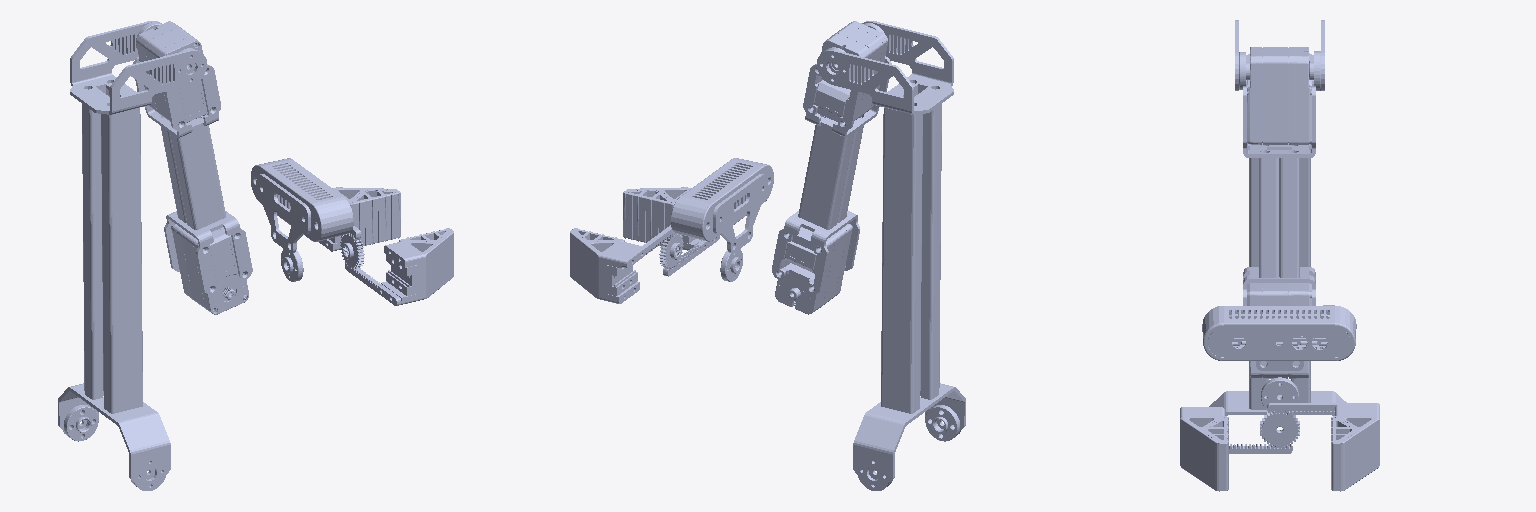
URDF robot description (NexArm0326new):
<?xml version="1.0" encoding="utf-8"?>
<!-- This URDF was automatically created by SolidWorks to URDF Exporter! Originally created by Stephen Brawner (brawner@gmail.com) 
     Commit Version: 1.6.0-4-g7f85cfe  Build Version: 1.6.7995.38578
     For more information, please see http://wiki.ros.org/sw_urdf_exporter -->
<robot
  name="NexArm0326new">
  <link
    name="base_link">
    <inertial>
      <origin
        xyz="0.0038665 2.0154E-06 0.026241"
        rpy="0 0 0" />
      <mass
        value="0.11262" />
      <inertia
        ixx="0.00011436"
        ixy="-2.127E-09"
        ixz="2.2436E-06"
        iyy="9.1966E-05"
        iyz="3.0965E-09"
        izz="0.00017896" />
    </inertial>
    <visual>
      <origin
        xyz="0 0 0"
        rpy="0 0 0" />
      <geometry>
        <mesh
          filename="package://NexArm0326new/meshes/base_link.STL" />
      </geometry>
      <material
        name="">
        <color
          rgba="0.79216 0.81961 0.93333 1" />
      </material>
    </visual>
    <collision>
      <origin
        xyz="0 0 0"
        rpy="0 0 0" />
      <geometry>
        <mesh
          filename="package://NexArm0326new/meshes/base_link.STL" />
      </geometry>
    </collision>
  </link>
  <link
    name="link1">
    <inertial>
      <origin
        xyz="5.6716152818298E-05 -1.86344172289354E-05 0.00418728087306319"
        rpy="0 0 0" />
      <mass
        value="0.0920484315594834" />
      <inertia
        ixx="4.05599543416967E-05"
        ixy="1.65185188703231E-09"
        ixz="2.44704004347051E-08"
        iyy="3.90268860828527E-05"
        iyz="1.63055586039366E-08"
        izz="6.80315119700401E-05" />
    </inertial>
    <visual>
      <origin
        xyz="0 0 0"
        rpy="0 0 0" />
      <geometry>
        <mesh
          filename="package://NexArm0326new/meshes/link1.STL" />
      </geometry>
      <material
        name="">
        <color
          rgba="0.792156862745098 0.819607843137255 0.933333333333333 1" />
      </material>
    </visual>
    <collision>
      <origin
        xyz="0 0 0"
        rpy="0 0 0" />
      <geometry>
        <mesh
          filename="package://NexArm0326new/meshes/link1.STL" />
      </geometry>
    </collision>
  </link>
  <joint
    name="joint1"
    type="revolute">
    <origin
      xyz="0.00042383 0 0.071003"
      rpy="0 0 0" />
    <parent
      link="base_link" />
    <child
      link="link1" />
    <axis
      xyz="0 0 -1" />
    <limit
      lower="-2.09"
      upper="2.09"
      effort="1000"
      velocity="0" />
  </joint>
  <link
    name="link2">
    <inertial>
      <origin
        xyz="0.0010467043709268 -0.0373060906216532 0.117940336564004"
        rpy="0 0 0" />
      <mass
        value="0.0590642381074413" />
      <inertia
        ixx="0.000126365190348819"
        ixy="-2.04852919617321E-11"
        ixz="6.46183559143708E-07"
        iyy="0.000122570999972299"
        iyz="-2.23011604572762E-12"
        izz="1.13949066313735E-05" />
    </inertial>
    <visual>
      <origin
        xyz="0 0 0"
        rpy="0 0 0" />
      <geometry>
        <mesh
          filename="package://NexArm0326new/meshes/link2.STL" />
      </geometry>
      <material
        name="">
        <color
          rgba="0.792156862745098 0.819607843137255 0.933333333333333 1" />
      </material>
    </visual>
    <collision>
      <origin
        xyz="0 0 0"
        rpy="0 0 0" />
      <geometry>
        <mesh
          filename="package://NexArm0326new/meshes/link2.STL" />
      </geometry>
    </collision>
  </link>
  <joint
    name="joint2"
    type="revolute">
    <origin
      xyz="-0.00041844 0.03728 0.039446"
      rpy="0 0 0" />
    <parent
      link="link1" />
    <child
      link="link2" />
    <axis
      xyz="0 1 0" />
    <limit
      lower="-2.09"
      upper="2.09"
      effort="1000"
      velocity="0" />
  </joint>
  <link
    name="link3">
    <inertial>
      <origin
        xyz="0.0137516433678302 -0.0196288133010798 -0.0711816402502082"
        rpy="0 0 0" />
      <mass
        value="0.062815962862313" />
      <inertia
        ixx="1.41867477534541E-05"
        ixy="5.59159372224557E-09"
        ixz="1.6737868665363E-06"
        iyy="1.59862374357988E-05"
        iyz="1.07176241107346E-09"
        izz="5.78320845698204E-06" />
    </inertial>
    <visual>
      <origin
        xyz="0 0 0"
        rpy="0 0 0" />
      <geometry>
        <mesh
          filename="package://NexArm0326new/meshes/link3.STL" />
      </geometry>
      <material
        name="">
        <color
          rgba="0.792156862745098 0.819607843137255 0.933333333333333 1" />
      </material>
    </visual>
    <collision>
      <origin
        xyz="0 0 0"
        rpy="0 0 0" />
      <geometry>
        <mesh
          filename="package://NexArm0326new/meshes/link3.STL" />
      </geometry>
    </collision>
  </link>
  <joint
    name="joint3"
    type="revolute">
    <origin
      xyz="0.0348 -0.01893 0.22535"
      rpy="0 0 0" />
    <parent
      link="link2" />
    <child
      link="link3" />
    <axis
      xyz="0 1 0" />
    <limit
      lower="-2.09"
      upper="2.09"
      effort="1000"
      velocity="0" />
  </joint>
  <link
    name="link4">
    <inertial>
      <origin
        xyz="0.024201 -0.018501 -0.004772"
        rpy="0 0 0" />
      <mass
        value="0.014717" />
      <inertia
        ixx="4.033E-06"
        ixy="-4.9295E-09"
        ixz="1.8768E-07"
        iyy="3.1677E-06"
        iyz="-6.8295E-09"
        izz="4.2652E-06" />
    </inertial>
    <visual>
      <origin
        xyz="0 0 0"
        rpy="0 0 0" />
      <geometry>
        <mesh
          filename="package://NexArm0326new/meshes/link4.STL" />
      </geometry>
      <material
        name="">
        <color
          rgba="0.79216 0.81961 0.93333 1" />
      </material>
    </visual>
    <collision>
      <origin
        xyz="0 0 0"
        rpy="0 0 0" />
      <geometry>
        <mesh
          filename="package://NexArm0326new/meshes/link4.STL" />
      </geometry>
    </collision>
  </link>
  <joint
    name="joint4"
    type="revolute">
    <origin
      xyz="0.027316 0 -0.14239"
      rpy="0 0 0" />
    <parent
      link="link3" />
    <child
      link="link4" />
    <axis
      xyz="0 1 0" />
    <limit
      lower="-2.09"
      upper="2.09"
      effort="1000"
      velocity="0" />
  </joint>
  <link
    name="camera_link">
    <inertial>
      <origin
        xyz="-0.012569 0.00066394 -0.00080194"
        rpy="0 0 0" />
      <mass
        value="0.011861" />
      <inertia
        ixx="6.7349E-06"
        ixy="6.6894E-09"
        ixz="-5.2096E-09"
        iyy="8.4701E-07"
        iyz="3.4214E-10"
        izz="6.2448E-06" />
    </inertial>
    <visual>
      <origin
        xyz="0 0 0"
        rpy="0 0 0" />
      <geometry>
        <mesh
          filename="package://NexArm0326new/meshes/camera_link.STL" />
      </geometry>
      <material
        name="">
        <color
          rgba="0.79216 0.81961 0.93333 1" />
      </material>
    </visual>
    <collision>
      <origin
        xyz="0 0 0"
        rpy="0 0 0" />
      <geometry>
        <mesh
          filename="package://NexArm0326new/meshes/camera_link.STL" />
      </geometry>
    </collision>
  </link>
  <joint
    name="camera_joint"
    type="fixed">
    <origin
      xyz="0.064555 -0.019407 0.036497"
      rpy="0 0 0" />
    <parent
      link="link4" />
    <child
      link="camera_link" />
    <axis
      xyz="0 0 0" />
  </joint>
  <link
    name="link5">
    <inertial>
      <origin
        xyz="-0.00198440314474035 -1.03724012712192E-08 1.19814488730163E-05"
        rpy="0 0 0" />
      <mass
        value="0.00101780721058781" />
      <inertia
        ixx="4.40367355590698E-08"
        ixy="-6.22255583580631E-14"
        ixz="-1.23825869712916E-10"
        iyy="2.35859027398144E-08"
        iyz="6.53467724851782E-13"
        izz="2.35874457790837E-08" />
    </inertial>
    <visual>
      <origin
        xyz="0 0 0"
        rpy="0 0 0" />
      <geometry>
        <mesh
          filename="package://NexArm0326new/meshes/link5.STL" />
      </geometry>
      <material
        name="">
        <color
          rgba="0.792156862745098 0.819607843137255 0.933333333333333 1" />
      </material>
    </visual>
    <collision>
      <origin
        xyz="0 0 0"
        rpy="0 0 0" />
      <geometry>
        <mesh
          filename="package://NexArm0326new/meshes/link5.STL" />
      </geometry>
    </collision>
  </link>
  <joint
    name="joint5"
    type="revolute">
    <origin
      xyz="0.049832 -0.018351 -0.00031098"
      rpy="0 0 0" />
    <parent
      link="link4" />
    <child
      link="link5" />
    <axis
      xyz="0.99998 0 -0.0060546" />
    <limit
      lower="-2.09"
      upper="2.09"
      effort="0"
      velocity="0" />
  </joint>
  <link
    name="gripper_link">
    <inertial>
      <origin
        xyz="-0.0093418045032847 -3.34240037377365E-05 -0.00222341566035766"
        rpy="0 0 0" />
      <mass
        value="0.0200924941074607" />
      <inertia
        ixx="1.44654482810758E-05"
        ixy="-4.85748537654977E-09"
        ixz="3.08608213029111E-09"
        iyy="2.40766161157147E-06"
        iyz="-6.9176574076478E-09"
        izz="1.33196687098113E-05" />
    </inertial>
    <visual>
      <origin
        xyz="0 0 0"
        rpy="0 0 0" />
      <geometry>
        <mesh
          filename="package://NexArm0326new/meshes/gripper_link.STL" />
      </geometry>
      <material
        name="">
        <color
          rgba="0.792156862745098 0.819607843137255 0.933333333333333 1" />
      </material>
    </visual>
    <collision>
      <origin
        xyz="0 0 0"
        rpy="0 0 0" />
      <geometry>
        <mesh
          filename="package://NexArm0326new/meshes/gripper_link.STL" />
      </geometry>
    </collision>
  </link>
  <joint
    name="gripper_joint"
    type="fixed">
    <origin
      xyz="0.035032 0 -0.00022027"
      rpy="0 0 0" />
    <parent
      link="link5" />
    <child
      link="gripper_link" />
    <axis
      xyz="0 0 0" />
    <limit
      lower="0"
      upper="0"
      effort="0"
      velocity="0" />
  </joint>
  <link
    name="gripper_base_link">
    <inertial>
      <origin
        xyz="-0.0019703 9.9566E-10 1.3103E-05"
        rpy="0 0 0" />
      <mass
        value="0.0010359" />
      <inertia
        ixx="4.7289E-08"
        ixy="3.4822E-15"
        ixz="-1.4599E-10"
        iyy="2.5339E-08"
        iyz="2.281E-15"
        izz="2.534E-08" />
    </inertial>
    <visual>
      <origin
        xyz="0 0 0"
        rpy="0 0 0" />
      <geometry>
        <mesh
          filename="package://NexArm0326new/meshes/gripper_base_link.STL" />
      </geometry>
      <material
        name="">
        <color
          rgba="0.79216 0.81961 0.93333 1" />
      </material>
    </visual>
    <collision>
      <origin
        xyz="0 0 0"
        rpy="0 0 0" />
      <geometry>
        <mesh
          filename="package://NexArm0326new/meshes/gripper_base_link.STL" />
      </geometry>
    </collision>
  </link>
  <joint
    name="gripper_base_joint"
    type="revolute">
    <origin
      xyz="0.0023084 0 -1.4336E-05"
      rpy="0 0 0" />
    <parent
      link="gripper_link" />
    <child
      link="gripper_base_link" />
    <axis
      xyz="0.99998 0 -0.0066507" />
    <limit
      lower="-1.57"
      upper="1.57"
      effort="0"
      velocity="0" />
  </joint>
  <link
    name="right_jaw_link">
    <inertial>
      <origin
        xyz="0.011947 0.0031957 0.012657"
        rpy="0 0 0" />
      <mass
        value="0.014194" />
      <inertia
        ixx="1.4275E-06"
        ixy="-8.4648E-08"
        ixz="-1.4624E-08"
        iyy="1.5892E-06"
        iyz="1.6325E-09"
        izz="1.3101E-06" />
    </inertial>
    <visual>
      <origin
        xyz="0 0 0"
        rpy="0 0 0" />
      <geometry>
        <mesh
          filename="package://NexArm0326new/meshes/right_jaw_link.STL" />
      </geometry>
      <material
        name="">
        <color
          rgba="0.79216 0.81961 0.93333 1" />
      </material>
    </visual>
    <collision>
      <origin
        xyz="0 0 0"
        rpy="0 0 0" />
      <geometry>
        <mesh
          filename="package://NexArm0326new/meshes/right_jaw_link.STL" />
      </geometry>
    </collision>
  </link>
  <joint
    name="right_jaw_joint"
    type="prismatic">
    <origin
      xyz="0.0081154 -0.038561 -0.013453"
      rpy="0 0 0" />
    <parent
      link="gripper_link" />
    <child
      link="right_jaw_link" />
    <axis
      xyz="0 1 0" />
    <limit
      lower="0"
      upper="0"
      effort="0"
      velocity="0" />
  </joint>
  <link
    name="left_jaw_link">
    <inertial>
      <origin
        xyz="0.010954 -0.0031957 0.013987"
        rpy="0 0 0" />
      <mass
        value="0.014194" />
      <inertia
        ixx="1.4279E-06"
        ixy="8.4662E-08"
        ixz="1.3039E-08"
        iyy="1.5892E-06"
        iyz="5.0959E-10"
        izz="1.3098E-06" />
    </inertial>
    <visual>
      <origin
        xyz="0 0 0"
        rpy="0 0 0" />
      <geometry>
        <mesh
          filename="package://NexArm0326new/meshes/left_jaw_link.STL" />
      </geometry>
      <material
        name="">
        <color
          rgba="0.79216 0.81961 0.93333 1" />
      </material>
    </visual>
    <collision>
      <origin
        xyz="0 0 0"
        rpy="0 0 0" />
      <geometry>
        <mesh
          filename="package://NexArm0326new/meshes/left_jaw_link.STL" />
      </geometry>
    </collision>
  </link>
  <joint
    name="left_jaw_joint"
    type="prismatic">
    <origin
      xyz="0.0091166 0.038561 -0.01346"
      rpy="0 0 0" />
    <parent
      link="gripper_link" />
    <child
      link="left_jaw_link" />
    <axis
      xyz="0 1 0" />
    <limit
      lower="0"
      upper="0"
      effort="0"
      velocity="0" />
  </joint>
</robot>

--- Facts derived from the render (not from the file) ---
3 views of the same robot in one strip: view 1: azimuth 30°, elevation 25°; view 2: azimuth 150°, elevation 25°; view 3: azimuth 270°, elevation 25° (orthographic).
Robot: NexArm0326new — 11 links, 10 joints (6 revolute, 2 prismatic, 2 fixed); root link base_link; default pose: every joint at zero.
Links seen in each view (by area): view 1: link2, link3, camera_link, right_jaw_link, left_jaw_link, gripper_base_link, link5; view 2: link2, link3, camera_link, left_jaw_link, right_jaw_link, gripper_base_link, link5; view 3: link3, camera_link, link2, left_jaw_link, right_jaw_link, gripper_base_link, link5.
Link boxes in pixels (x1,y1,x2,y2): link2: (58,21,206,490); link3: (133,21,252,314); camera_link: (251,158,353,252); right_jaw_link: (345,228,453,305); left_jaw_link: (319,187,400,251); gripper_base_link: (340,233,364,268); link5: (281,249,303,281); link2: (817,21,965,490); link3: (772,21,891,314); camera_link: (671,158,773,252); left_jaw_link: (570,225,673,303); right_jaw_link: (623,187,719,276); gripper_base_link: (659,233,683,268); link5: (720,249,742,281); link3: (1243,47,1315,378); camera_link: (1202,305,1356,370); link2: (1209,20,1346,415); left_jaw_link: (1267,403,1379,491); right_jaw_link: (1180,407,1292,491); gripper_base_link: (1260,411,1299,447); link5: (1261,377,1298,408).
Size in the robot's own frame: 0.2126 by 0.0997 by 0.247 metres.
7 mesh visuals loaded from 11 distinct referenced files (7 binary STL); not drawn: 4 (reference not matched to a file when rendering).
